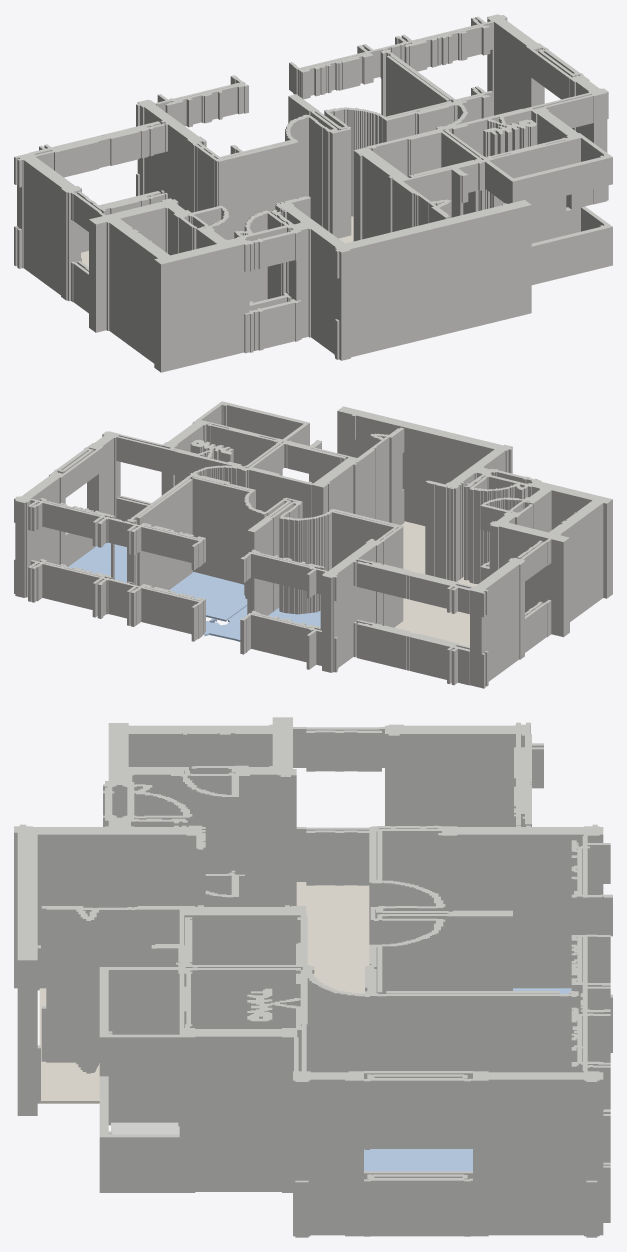
The picture shows the model from 3 angles, top to bottom: view 1: azimuth 30°, elevation 25°; view 2: azimuth 150°, elevation 25°; view 3: azimuth 270°, elevation 25°; orthographic projection. The views are drawn at different scales.
Parts seen in each view (by area): view 1: walls; view 2: walls, room:other:5, room:bedroom:1, room:bedroom:0; view 3: walls, room:other:5, room:bedroom:1, room:ledge:4.
Boxes of the visible parts, left/top/right/bottom form: walls: left=14, top=14, right=612, bottom=372; walls: left=14, top=401, right=612, bottom=688; room:other:5: left=394, top=521, right=477, bottom=646; room:bedroom:1: left=68, top=542, right=247, bottom=621; room:bedroom:0: left=204, top=606, right=320, bottom=641; walls: left=14, top=717, right=612, bottom=1237; room:other:5: left=39, top=882, right=369, bottom=1103; room:bedroom:1: left=364, top=1149, right=472, bottom=1171; room:ledge:4: left=111, top=1122, right=179, bottom=1134.
Size of the model in its own units: 14.08 by 2.8 by 9.77.
